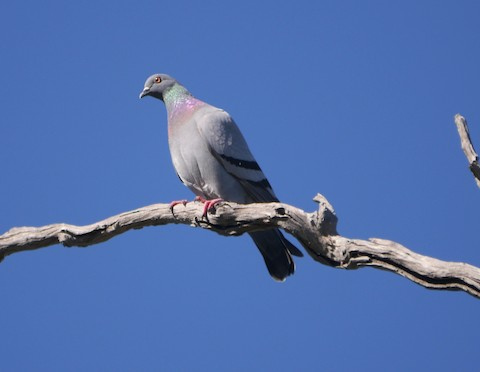pigeon: (139, 70, 309, 287)
